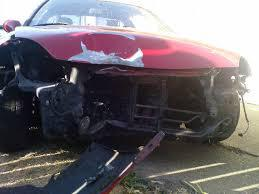bonnet-dent: (18, 24, 219, 73)
front-bumper-dent: (43, 80, 185, 139)
